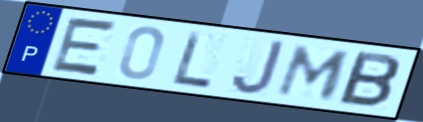0: (116, 24, 167, 82)
B: (335, 48, 403, 110)
E: (47, 14, 122, 78)
J: (229, 38, 287, 96)
L: (171, 29, 215, 90)
M: (273, 43, 355, 102)
